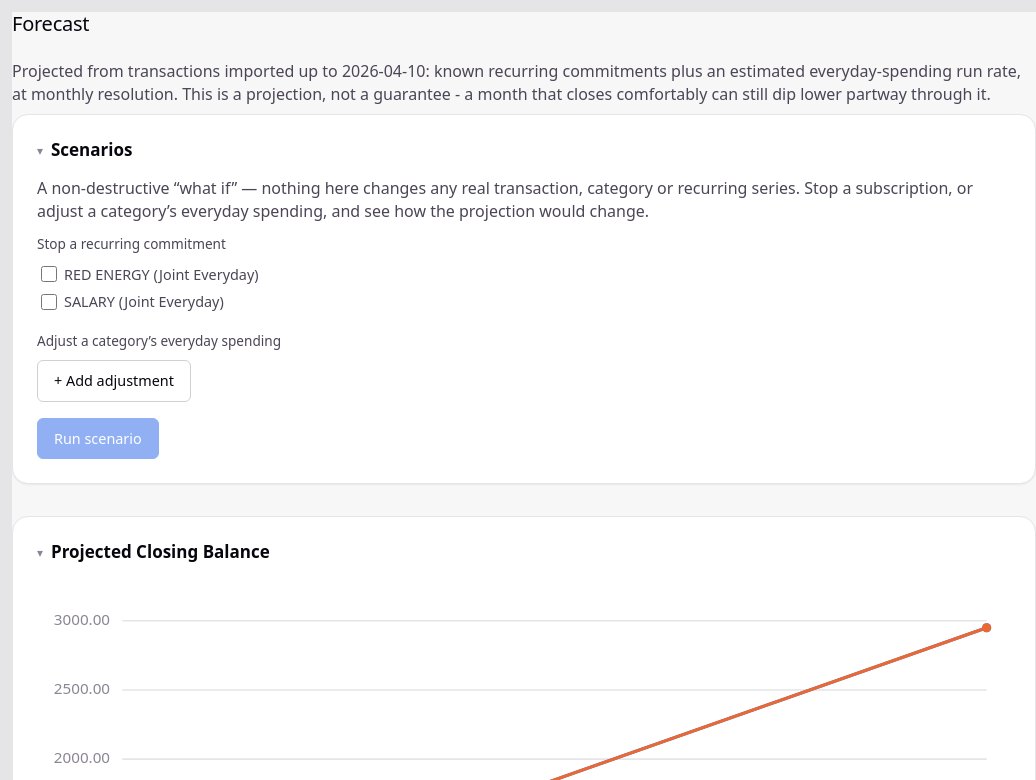
Test: ForecastPage scenarios › clears the scenario and reverts to the baseline chart
Expected: the button "▾ Scenarios" is shown, x1=37 y1=139 x2=1011 y2=161
Click the checkbox labelled "RED ENERGY (Joint Everyday)".
click(49, 274)  # box x1=41 y1=266 x2=57 y2=282
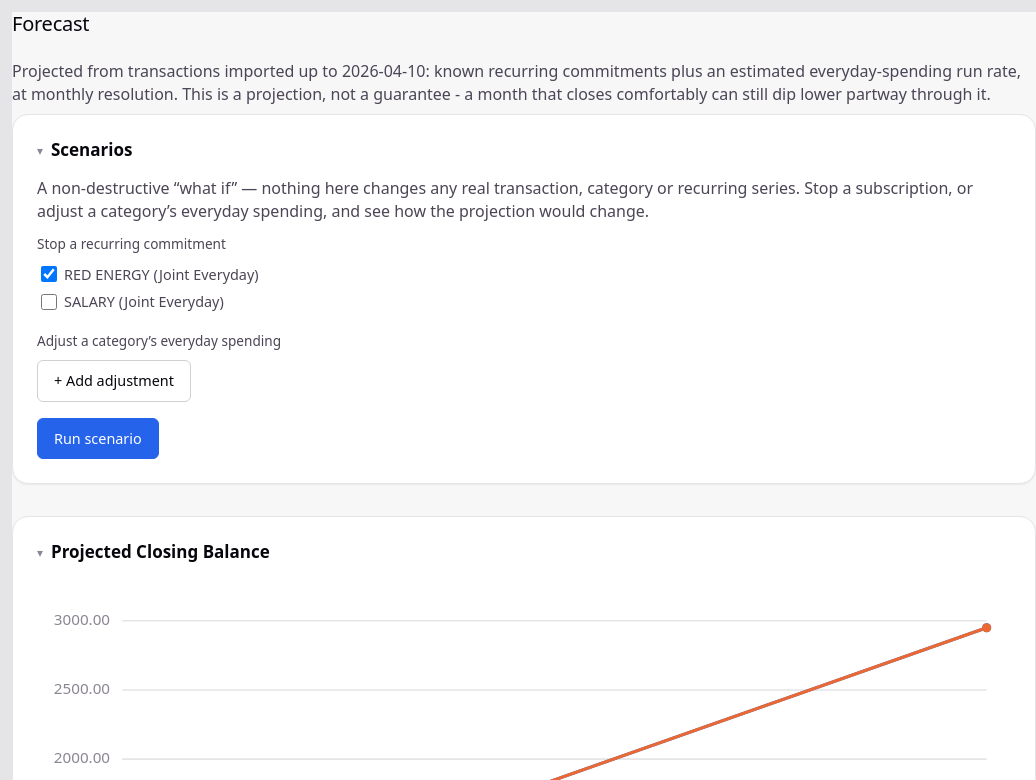
Click the button "Run scenario".
click(98, 438)  # box x1=37 y1=418 x2=159 y2=459
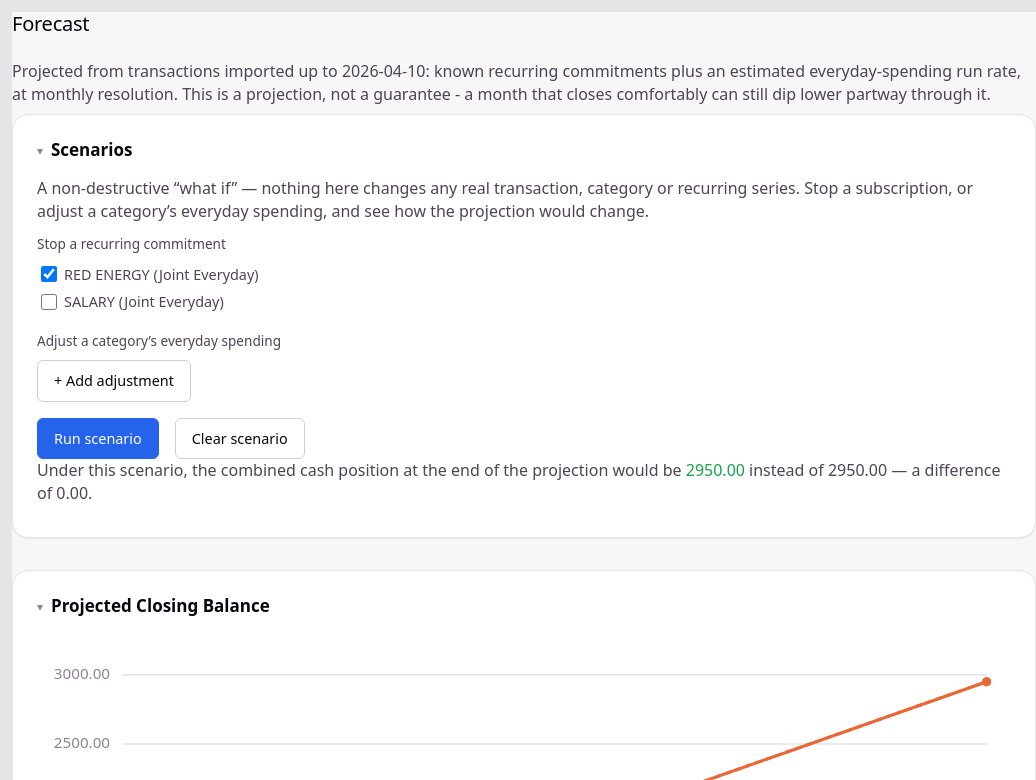
Result: the button "Clear scenario" is shown
Click the button "Clear scenario".
click(240, 438)  # box x1=175 y1=418 x2=305 y2=459
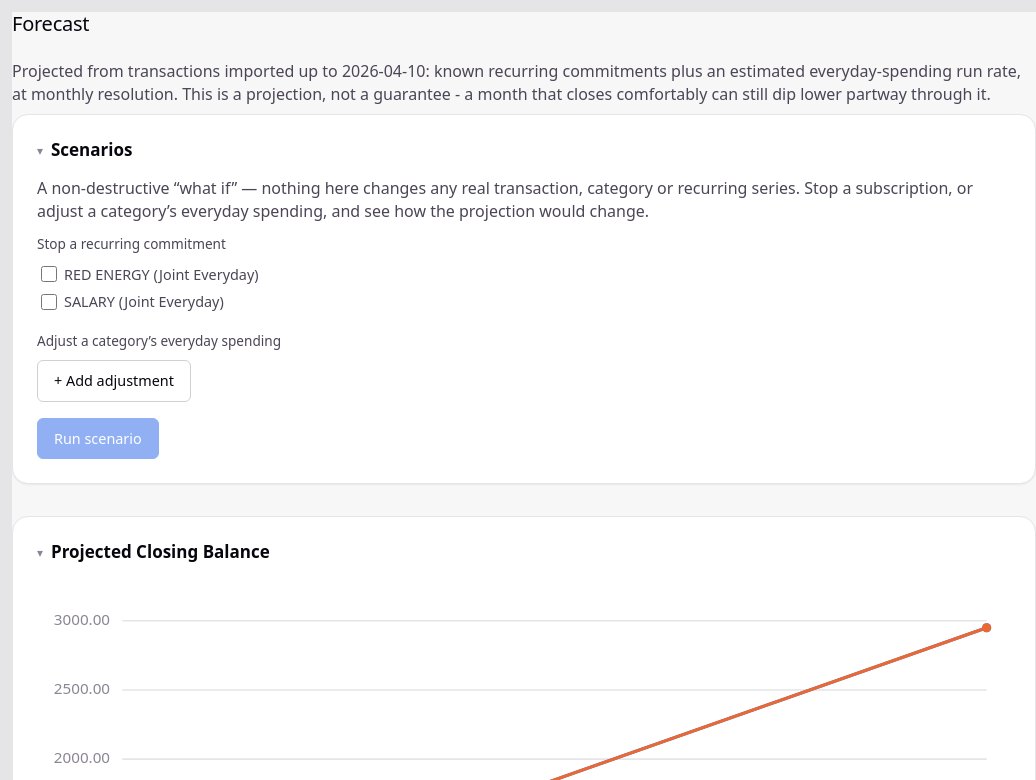
Result: the checkbox labelled "RED ENERGY (Joint Everyday)" is not checked at x1=41 y1=266 x2=57 y2=282
Result: the button "Clear scenario" is gone
